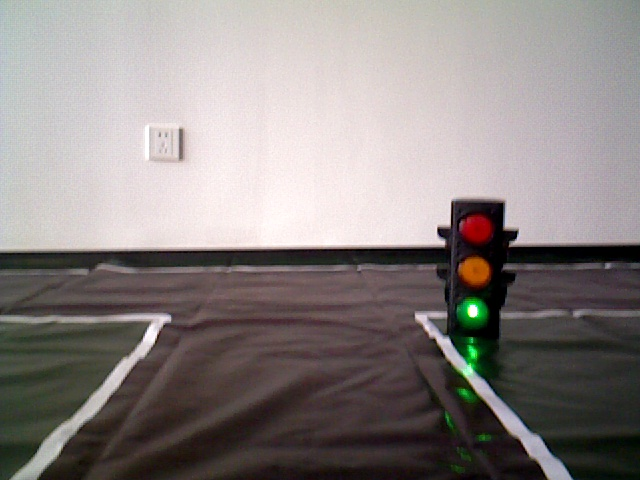green: (451, 209, 497, 324)
